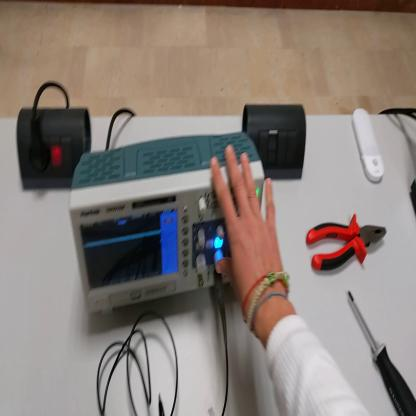hand: (209, 144, 285, 312)
oscilloscope: (74, 129, 268, 312)
pliers: (306, 223, 390, 275)
screwdriver-: (349, 291, 416, 414)
socket: (17, 108, 93, 191)
